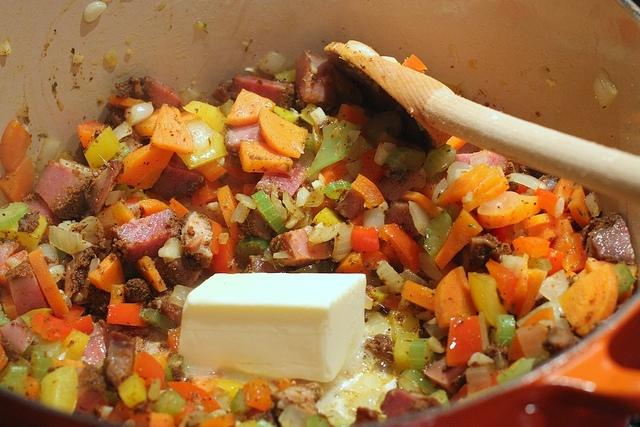carrot: (558, 264, 618, 336), (434, 208, 484, 271), (432, 266, 477, 328), (117, 142, 175, 188), (258, 107, 308, 159), (477, 191, 540, 229), (334, 174, 386, 220), (464, 166, 511, 214), (150, 102, 193, 154), (238, 139, 293, 174), (226, 88, 276, 126), (90, 200, 136, 240), (446, 316, 482, 366), (168, 381, 222, 413), (0, 153, 34, 203), (1, 119, 32, 172), (486, 259, 520, 305), (88, 254, 125, 293), (551, 232, 585, 274), (217, 185, 239, 243), (132, 351, 166, 388), (31, 312, 72, 342), (134, 256, 168, 292), (106, 302, 150, 328), (401, 280, 434, 314), (568, 185, 593, 228), (243, 378, 272, 412), (520, 212, 574, 230), (212, 236, 236, 274), (77, 121, 108, 148), (512, 236, 550, 258), (350, 225, 380, 252), (540, 248, 564, 278), (192, 411, 235, 427), (537, 188, 559, 217), (402, 54, 428, 74), (169, 198, 189, 219), (66, 303, 86, 323), (270, 378, 294, 391)
celery: (304, 119, 360, 180), (251, 190, 289, 235), (423, 212, 452, 259), (515, 324, 550, 358), (494, 356, 536, 384), (384, 144, 426, 172), (138, 308, 180, 336), (422, 144, 457, 177), (150, 387, 187, 417), (396, 368, 435, 396), (235, 237, 269, 268), (408, 338, 436, 375), (466, 364, 495, 396), (612, 261, 636, 298), (0, 366, 26, 397), (2, 201, 30, 229), (494, 314, 516, 348), (23, 340, 62, 358), (324, 179, 352, 200), (230, 388, 253, 413), (31, 356, 52, 383), (427, 390, 451, 410), (528, 258, 552, 272), (306, 415, 330, 427)
